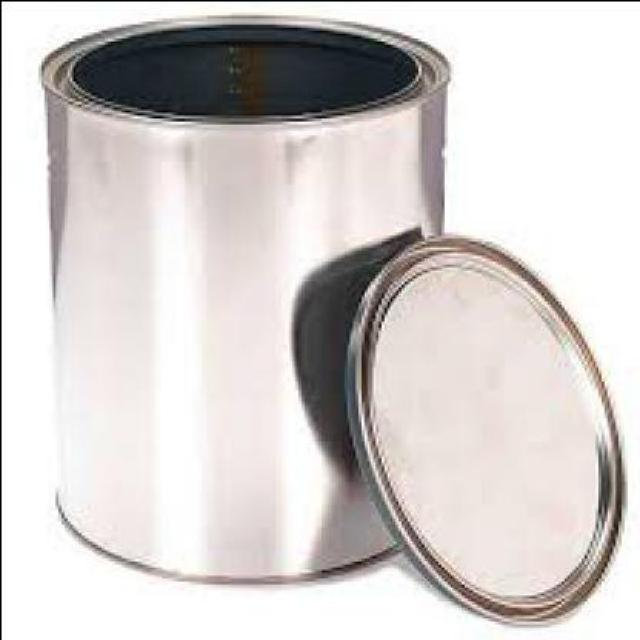METAL: (49, 9, 448, 578), (348, 232, 626, 626)
